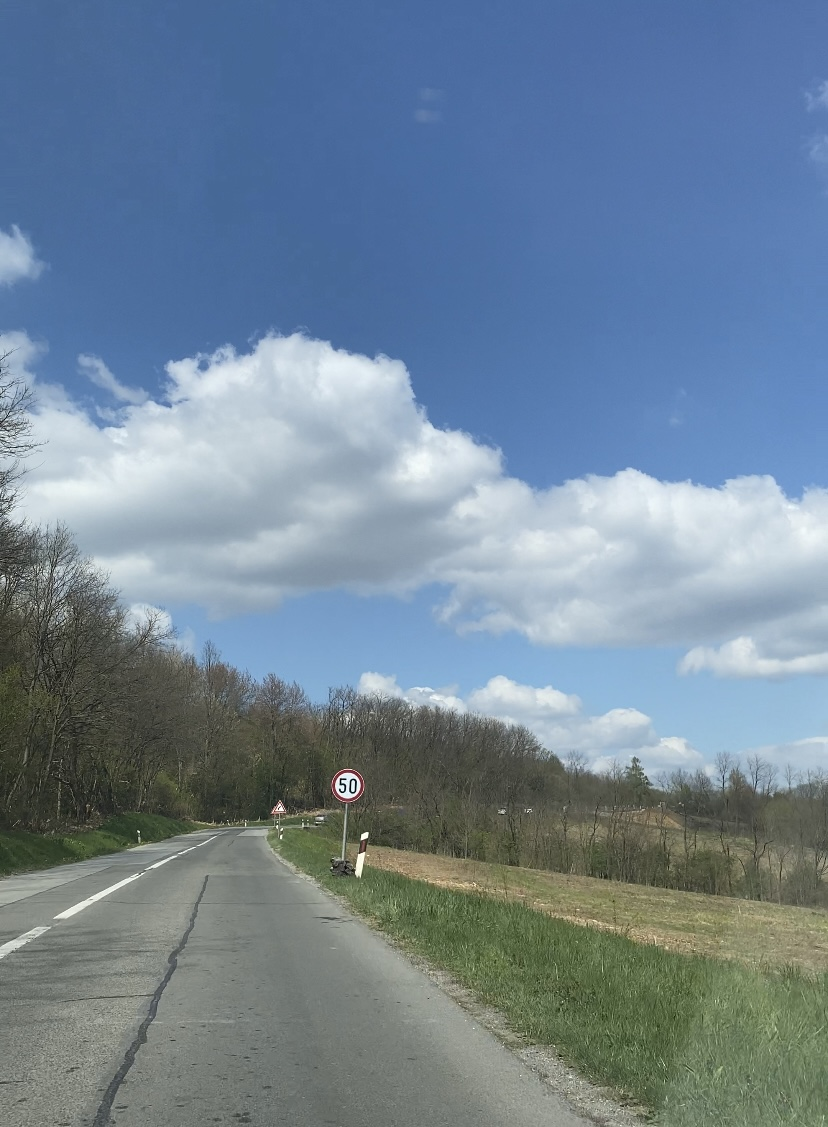Ograničenje brzine 50: (331, 769, 365, 803)
